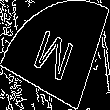M_SW: (31, 22, 79, 88)
